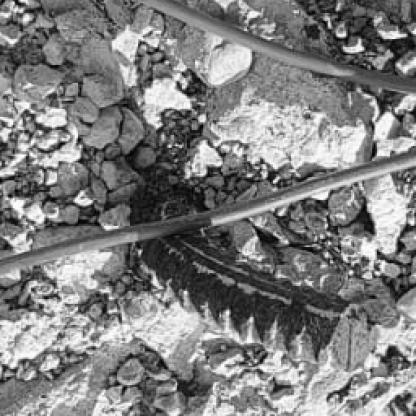cementitious_debris: (0, 0, 414, 262), (0, 170, 414, 414), (186, 2, 413, 75)
